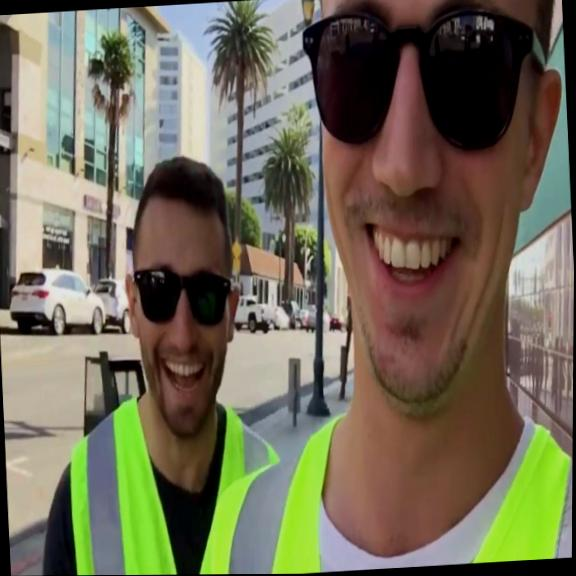safety_vest: (194, 395, 573, 575), (65, 380, 288, 575)
